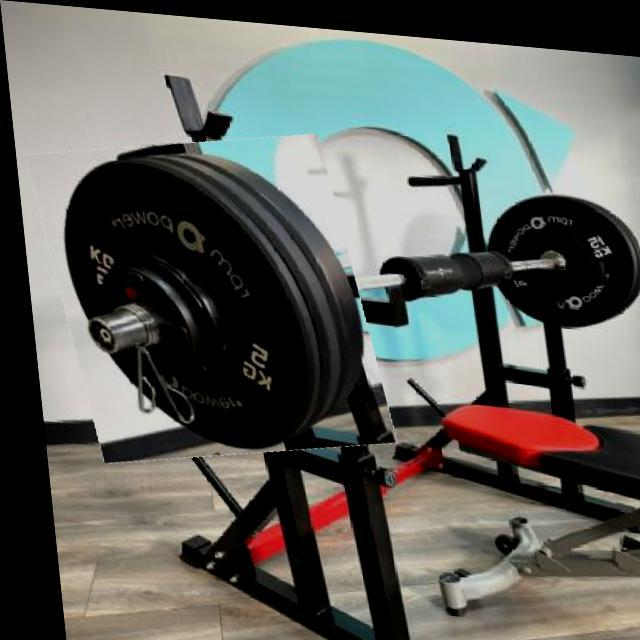barbell: (32, 121, 382, 473)
